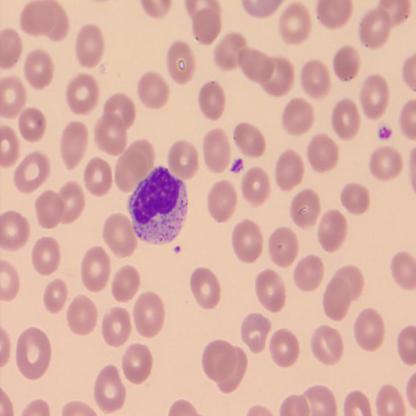Metamyelocyte: (126, 162, 190, 249)
